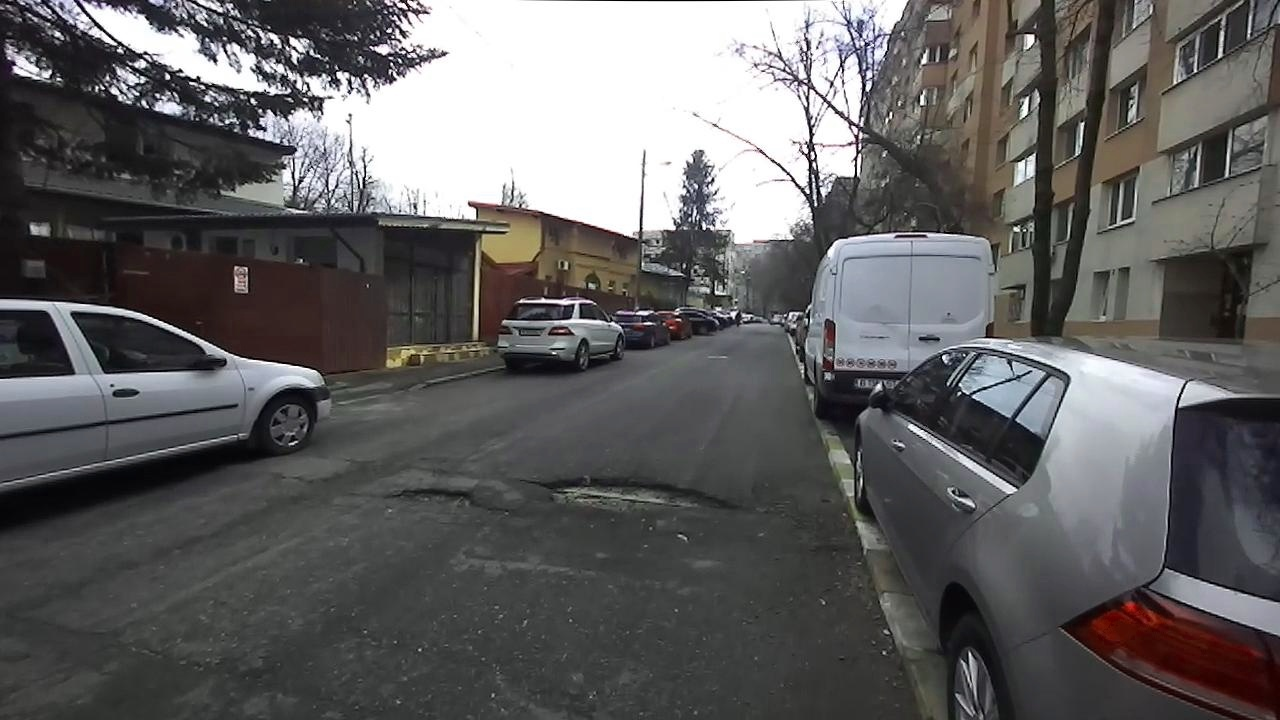pothole: (518, 471, 751, 521), (379, 483, 510, 514)
